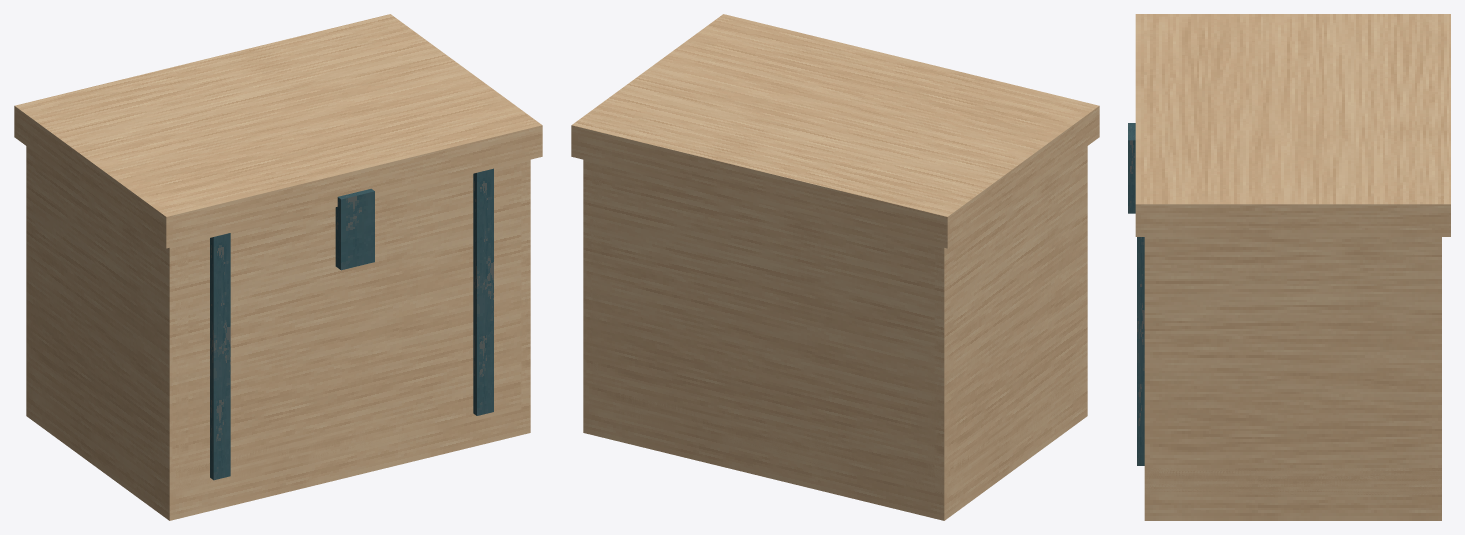
Rendered from r1_storage_container.glb.
3 views of the same model, side by side, from view 1: azimuth 30°, elevation 25°; view 2: azimuth 150°, elevation 25°; view 3: azimuth 270°, elevation 25° (orthographic). The views are drawn at different scales.
Parts seen in each view (by area): view 1: root, lid; view 2: root, lid; view 3: root, lid.
Boxes of the visible parts, <box> form: root: <box>26,146,530,520</box>; lid: <box>14,14,542,248</box>; root: <box>583,146,1087,520</box>; lid: <box>571,14,1099,248</box>; root: <box>1128,123,1441,520</box>; lid: <box>1135,14,1450,236</box>.
Bounding box in the file's own units: 1 × 0.785 × 0.7165.
Materials: 1 (1 with a texture image).
